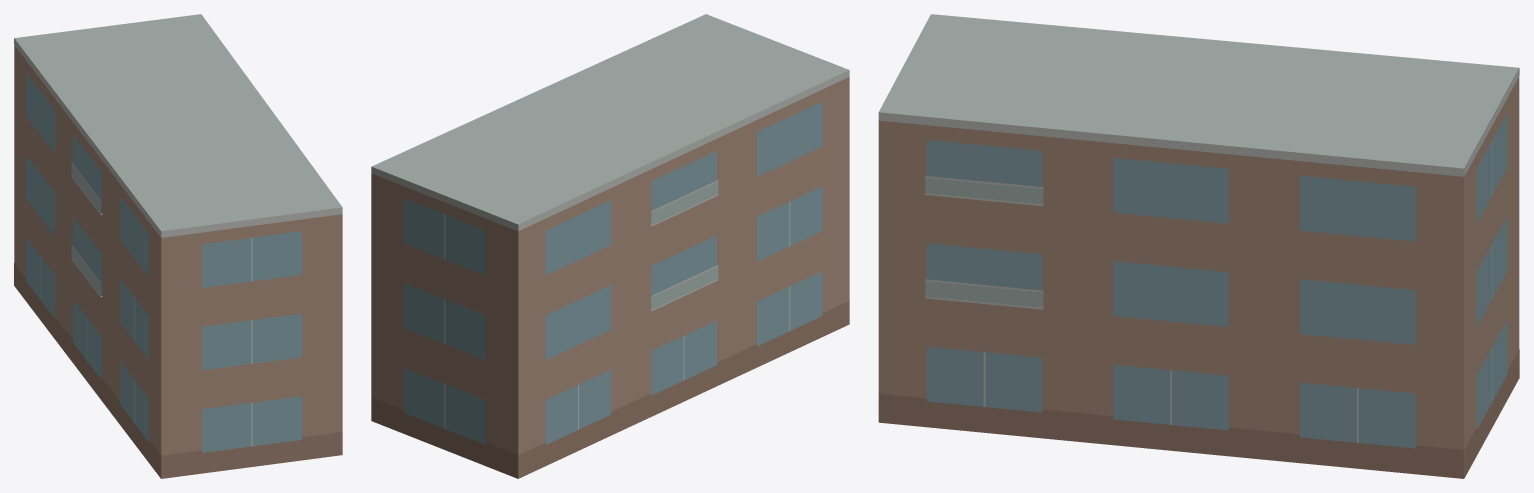
File: survey-upis-32803885.glb
3 views of the same model, side by side, from view 1: azimuth 30°, elevation 25°; view 2: azimuth 150°, elevation 25°; view 3: azimuth 270°, elevation 25° (orthographic). The views are drawn at different scales.
Visible parts, largest first — view 1: survey-upis-32803885.tmp; view 2: survey-upis-32803885.tmp; view 3: survey-upis-32803885.tmp.
Part boxes in pixels (left/top/right/bottom): survey-upis-32803885.tmp: left=14, top=14, right=342, bottom=478; survey-upis-32803885.tmp: left=371, top=14, right=849, bottom=478; survey-upis-32803885.tmp: left=878, top=14, right=1519, bottom=478.
Size of the model in its own units: 9.79 by 9.15 by 17.14.
